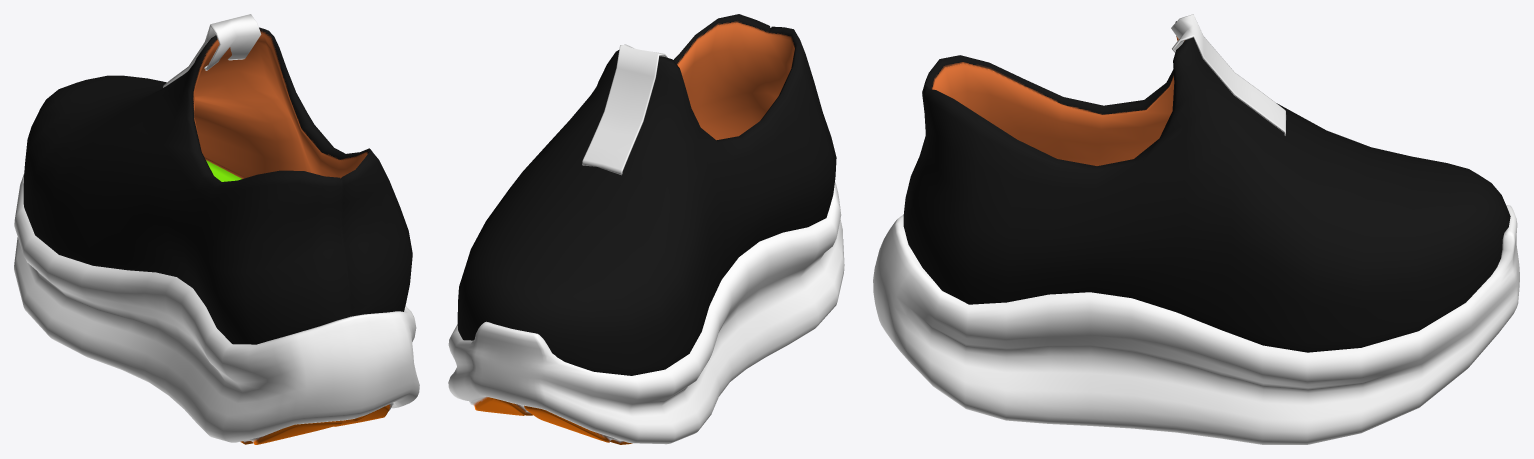
File: slip_ons.gltf
The picture shows the model from 3 angles, left to right: view 1: azimuth 30°, elevation 25°; view 2: azimuth 150°, elevation 25°; view 3: azimuth 270°, elevation 25°; orthographic projection. The views are drawn at different scales.
Parts seen in each view (by area): view 1: shoes_r; view 2: shoes_r; view 3: shoes_r.
Boxes of the visible parts, x1=… form: shoes_r: x1=14, y1=14, x2=419, y2=444; shoes_r: x1=448, y1=14, x2=844, y2=444; shoes_r: x1=873, y1=14, x2=1519, y2=444.
Bounding box in the file's own units: 13.24 × 17.52 × 28.15.
1 material, 1 textured.
